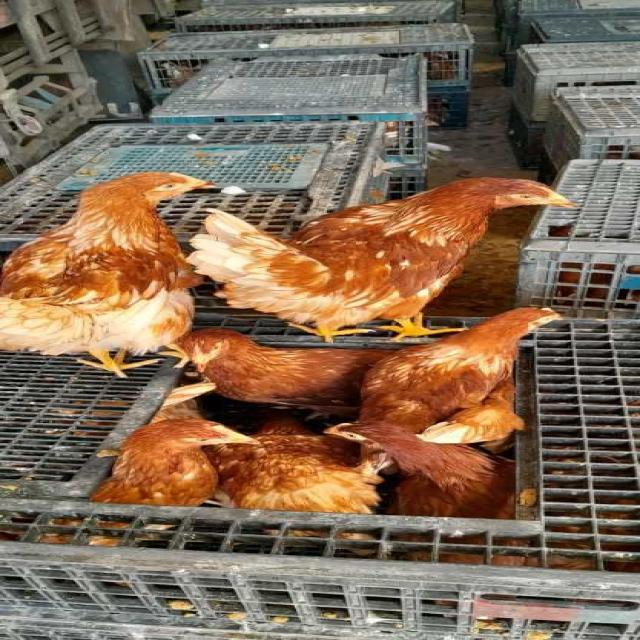Healthy: (192, 126, 586, 341), (3, 149, 215, 390)
